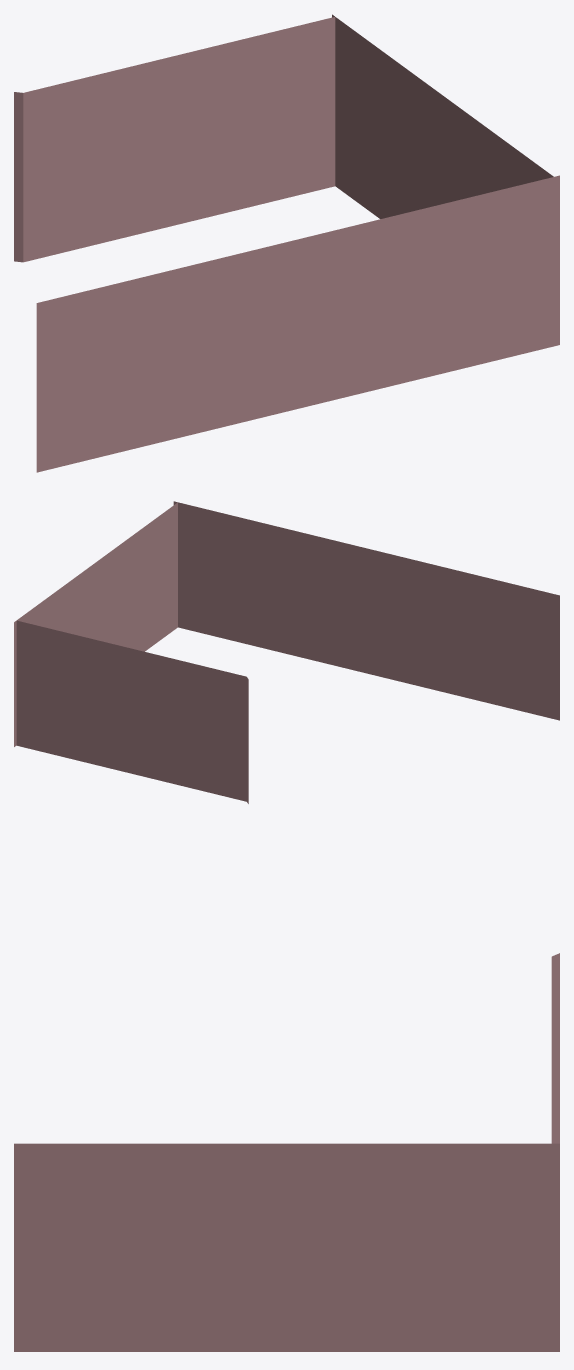
Rendered from Cluster7.b3dm.gltf.
3 renders of one model, top to bottom at view 1: azimuth 30°, elevation 25°; view 2: azimuth 150°, elevation 25°; view 3: azimuth 270°, elevation 25°, orthographic. The views are drawn at different scales.
Size of the model in its own units: 25.85 by 8 by 19.
